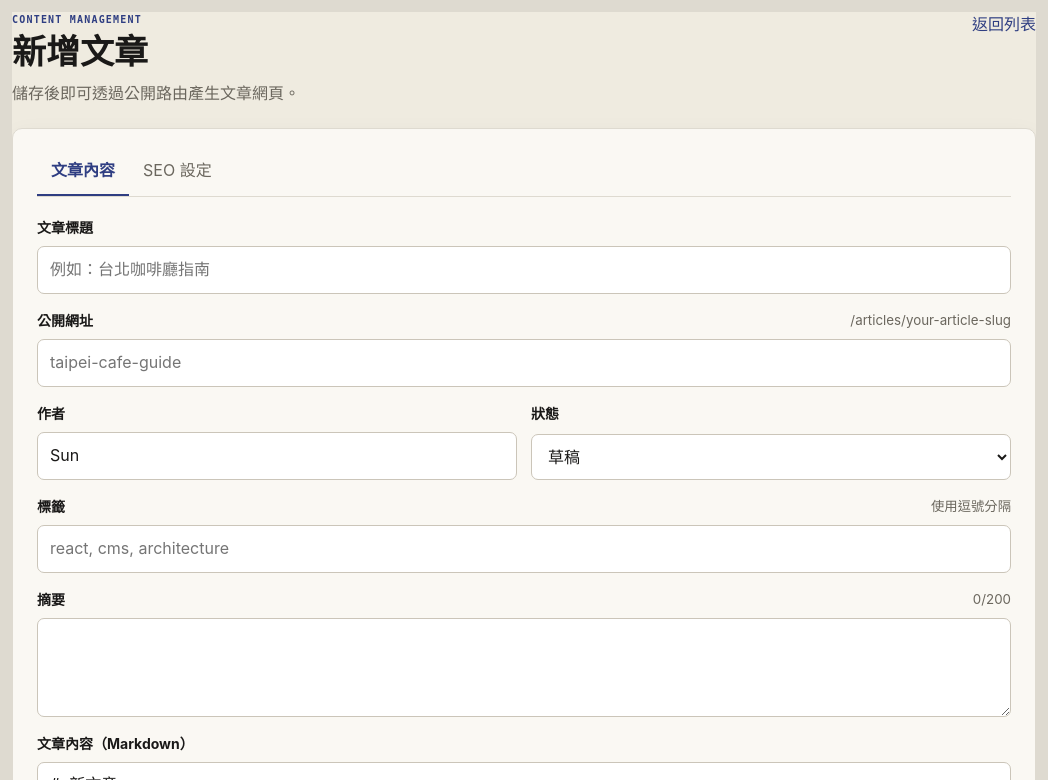
ArticleEditorPage — new article › auto-generates the slug from the title while the slug field is untouched
Type "台北 Cafe Guide" into the field with placeholder "例如：台北咖啡廳指南" at (524, 270), box left=37, top=246, right=1011, bottom=294
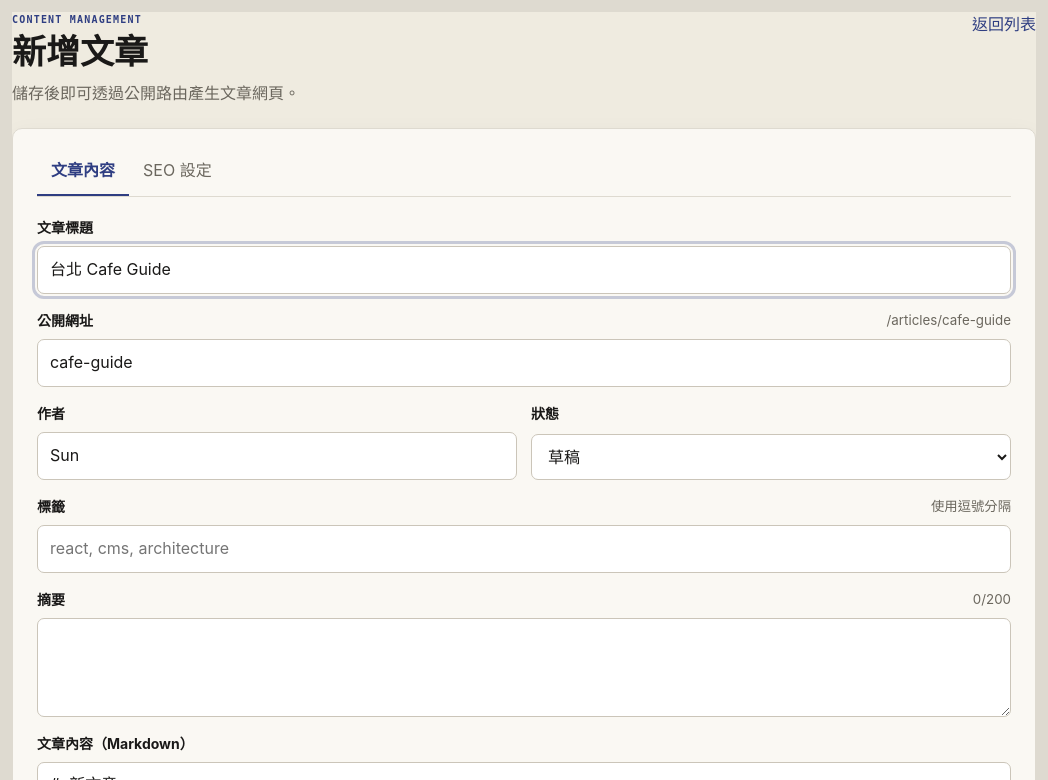
Check: the field with placeholder "taipei-cafe-guide" holds "cafe-guide", box left=37, top=339, right=1011, bottom=387
